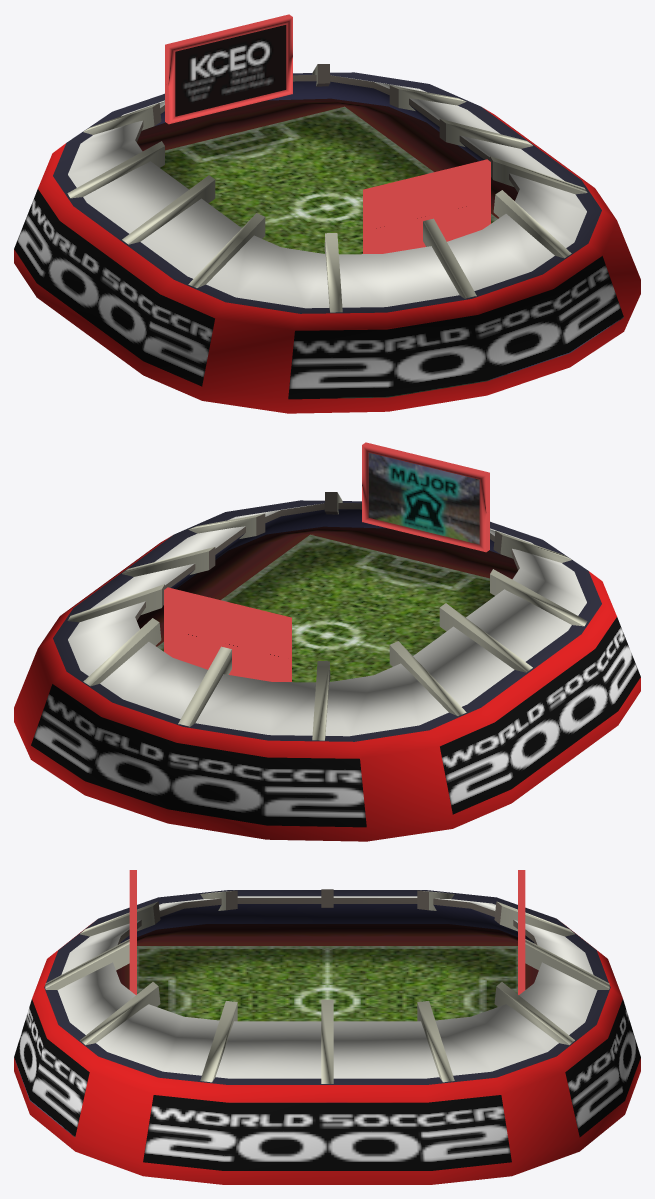
The model's file is WS2K203.ICO.obj.
The picture shows the model from 3 angles, top to bottom: view 1: azimuth 30°, elevation 25°; view 2: azimuth 150°, elevation 25°; view 3: azimuth 270°, elevation 25°; orthographic projection.
Bounding box in the file's own units: 4.37 × 1.54 × 5.09.
Materials: 1 (1 with a texture image).
